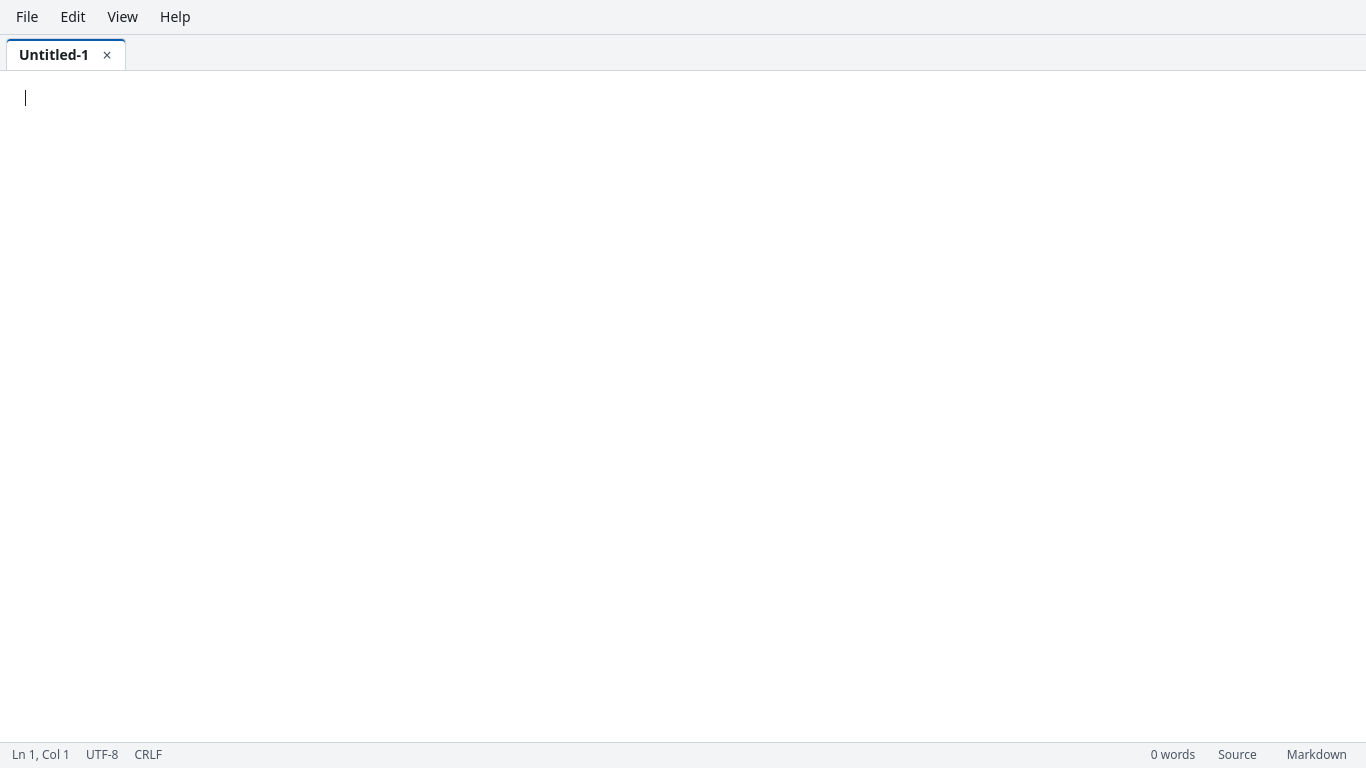
command palette › opens with Ctrl+Shift+P and F1, filters, and runs the chosen command
The image size is (1366, 768).
Expected: the tab "Untitled-1" is shown, [7,39,93,70]
Step 1. Press P
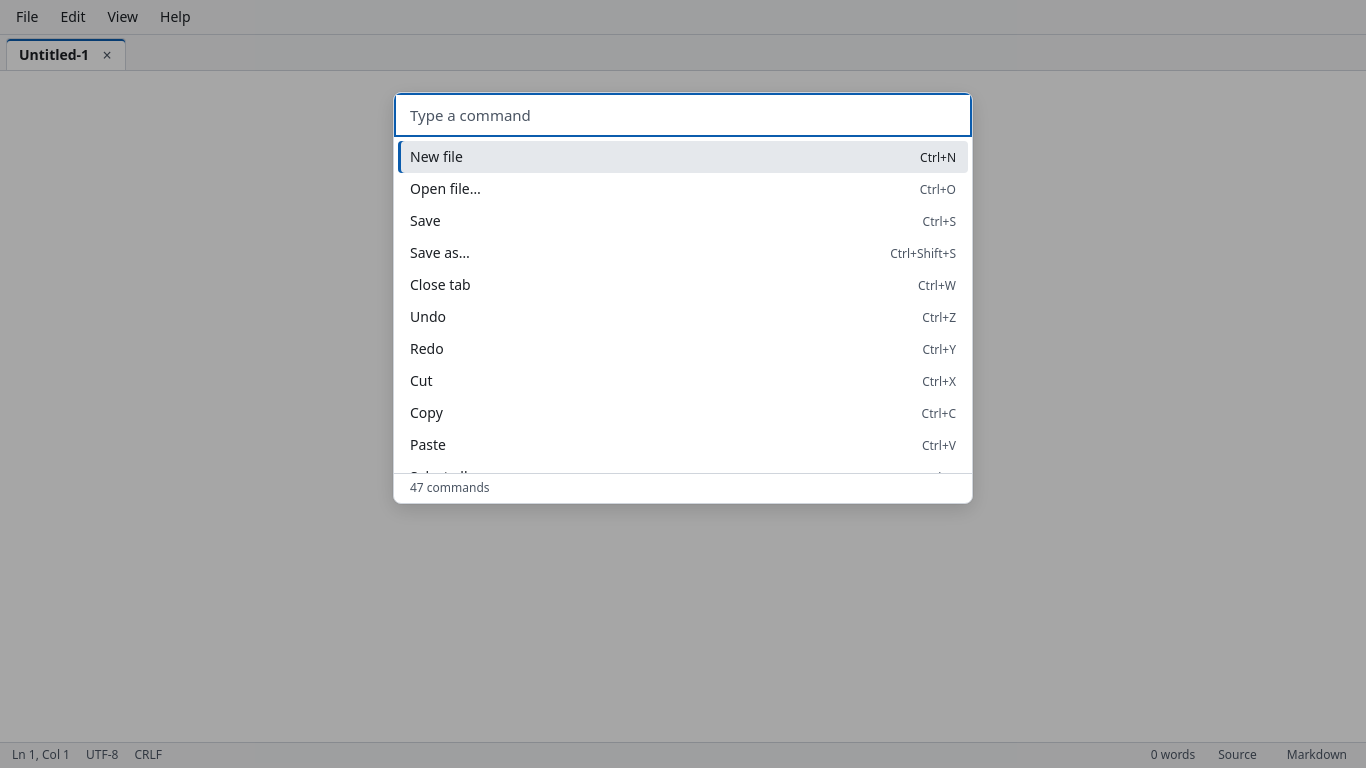
Now the option "Save as… Ctrl+Shift+S" is shown, box [410,243,956,262]
Step 2. Type "new" into the dropdown labelled "Type a command" → (683, 115), box [394,93,972,137]
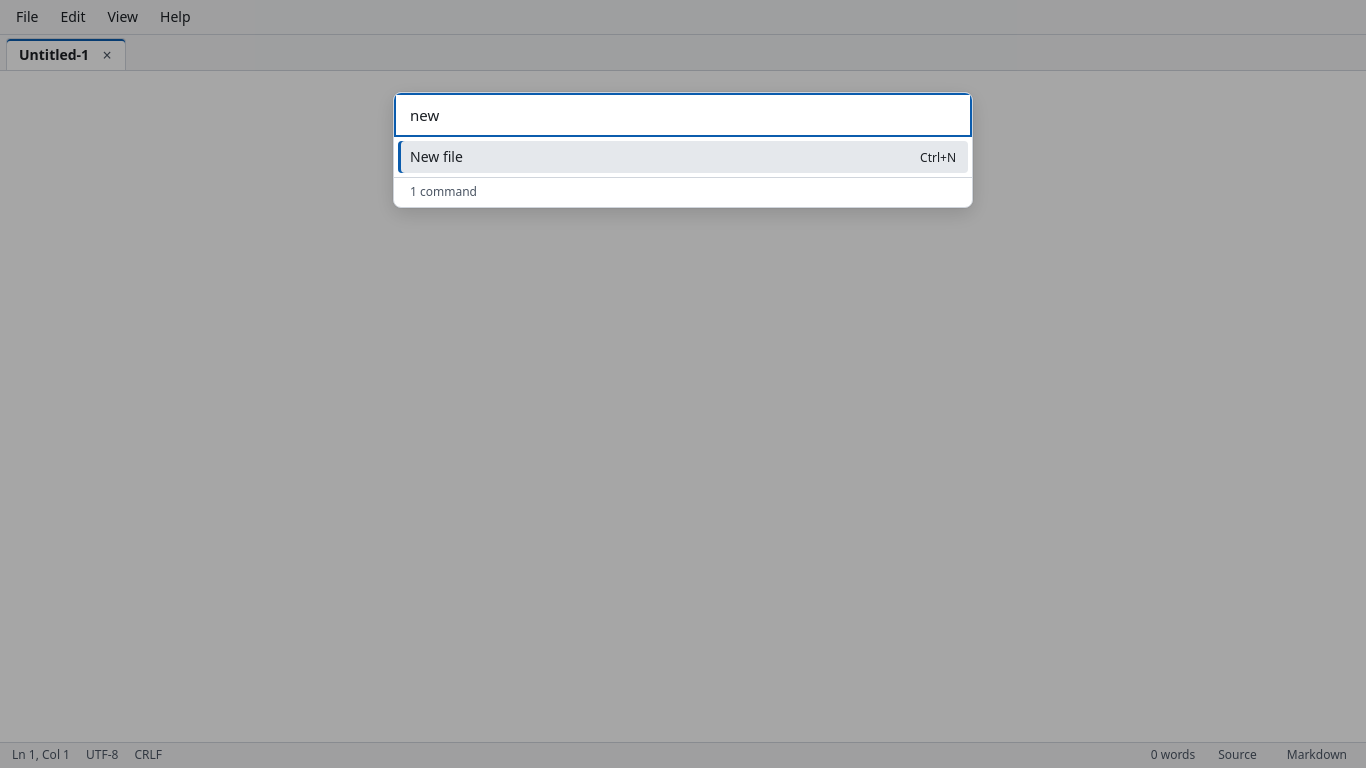
Now the option shows "New file", box [398,141,968,173]
Step 3. Press Enter in the dropdown named "Type a command", box [394,93,972,137]
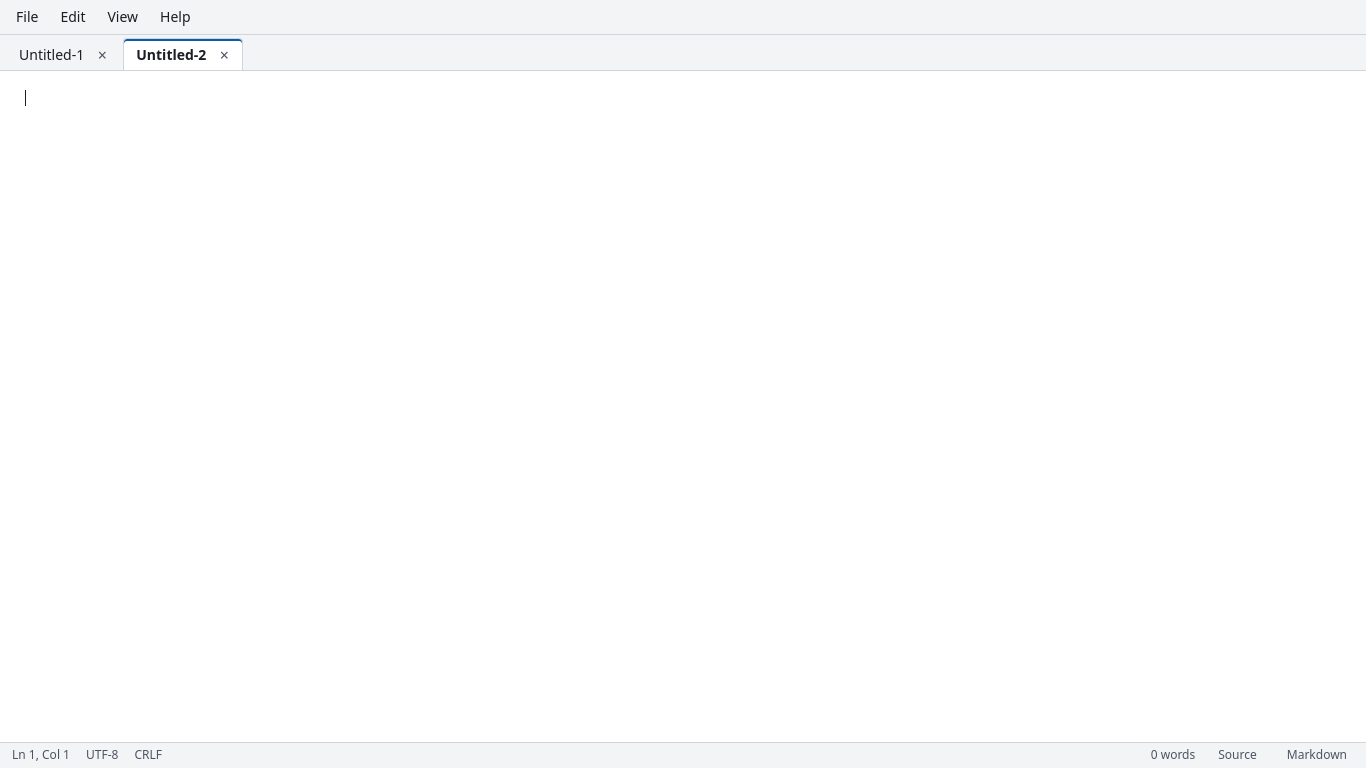
Now the tab "Untitled-2" is shown, box [124,39,210,70]
Now the dialog "Command palette" is gone
Step 4. Press F1
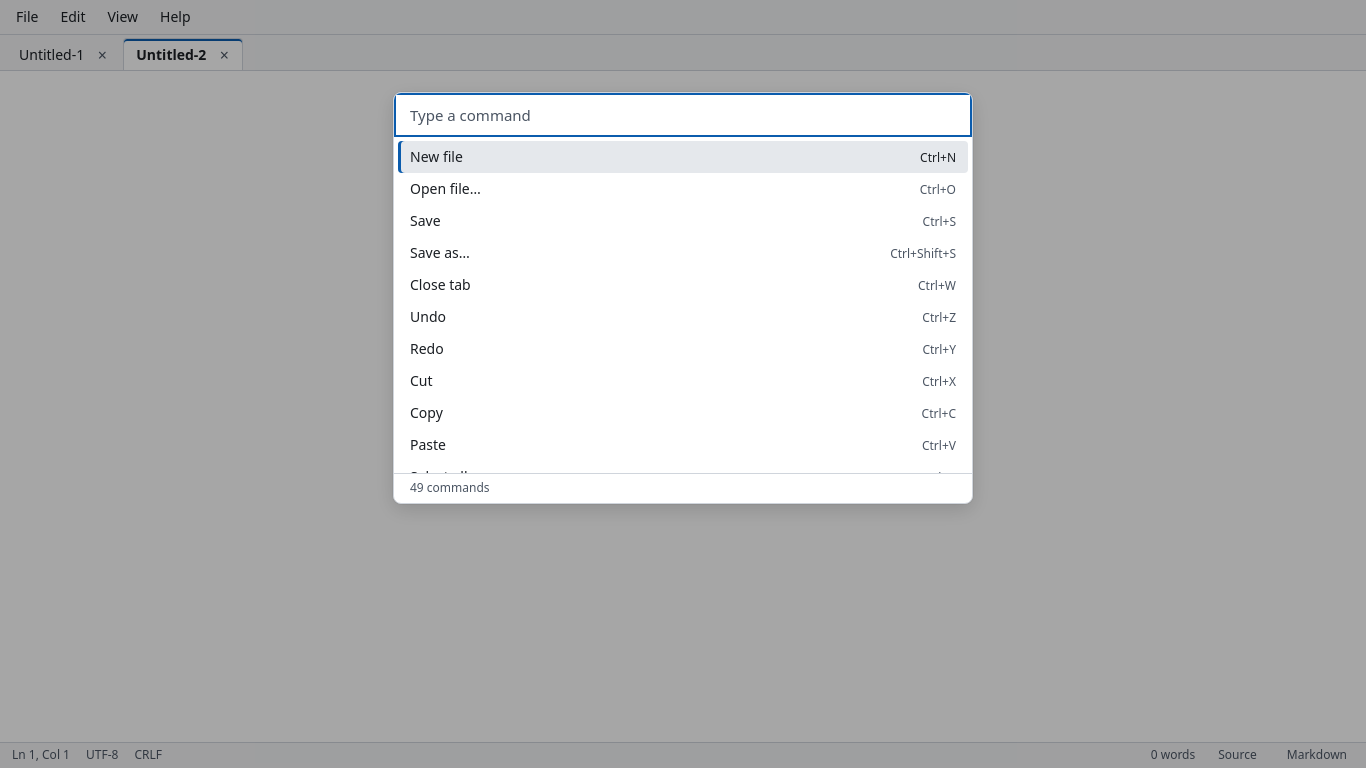
Now the dropdown is shown, box [394,93,972,137]
